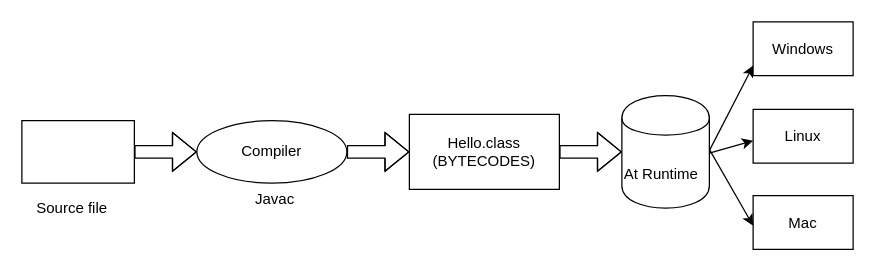
This 875x271 diagram has some shape labels left out. The shapes that lost their labels are listed below. From the top down, each one's box as (x1, y1, x2, y2) in pixels, then its label:
(21, 119, 134, 183): Hello.java
(621, 94, 709, 208): JVM
